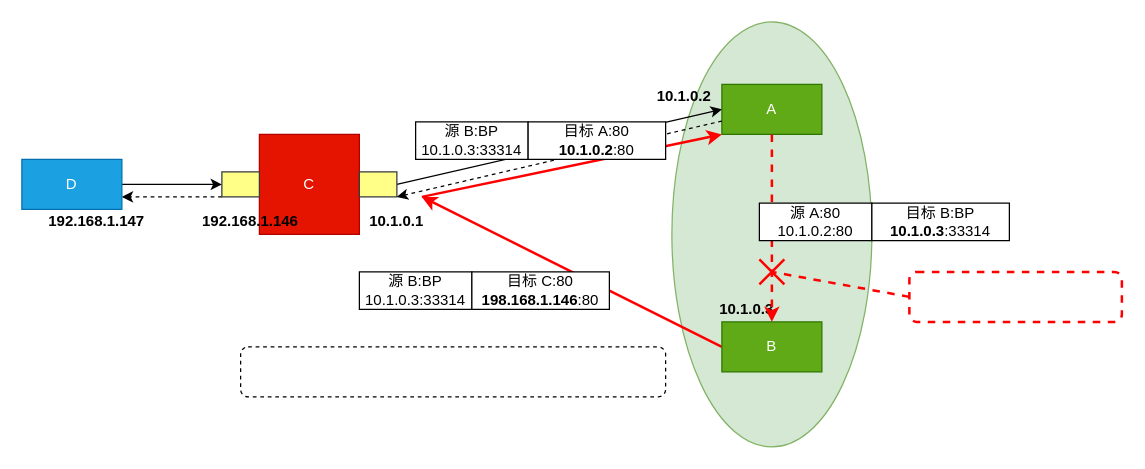
Image size: 1145x469. Some labels were removed from this diagram. The box of each missing label's shape, as (x1, y1, x2, y2) in pixels:
eth0: (358, 171, 397, 197)
eth1: (221, 171, 259, 197)
不存在这样的连接，直接丢包: (908, 270, 1122, 322)
例如：curl "http://198.168.1.146:80" 虽然 B 使用的外网 IP，但是根据 B 的路由表，仍然会走 eth0: (239, 346, 666, 397)
